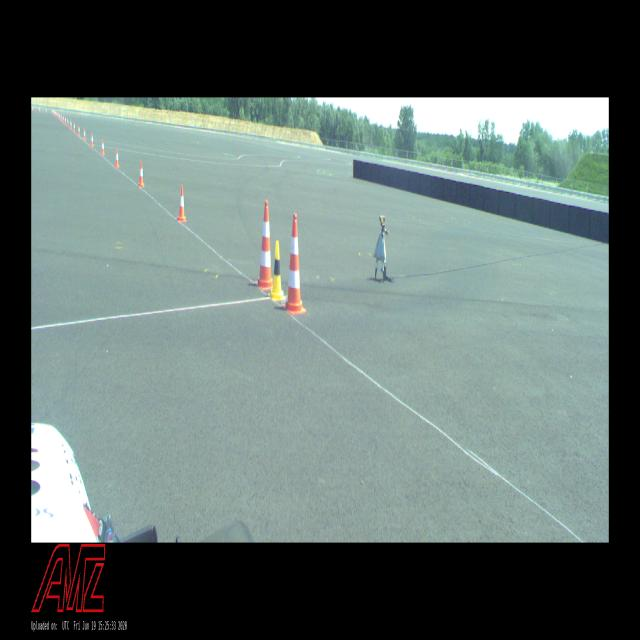large_orange_cone: (282, 215, 306, 313), (254, 202, 273, 289)
orange_cone: (178, 185, 186, 221), (138, 162, 144, 186), (115, 148, 119, 168), (90, 133, 94, 147), (101, 139, 104, 155), (83, 128, 86, 140), (78, 125, 80, 136), (73, 122, 75, 132), (70, 120, 72, 128), (65, 117, 66, 124), (63, 115, 64, 122), (61, 114, 62, 120), (59, 113, 60, 118), (68, 118, 68, 126), (58, 112, 58, 118)
yellow_cone: (269, 241, 285, 300)
